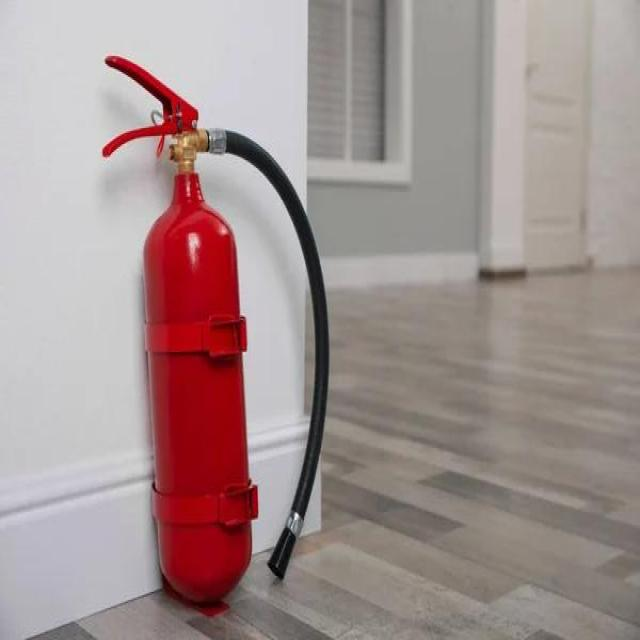fire_extinguisher: (96, 46, 331, 613)
